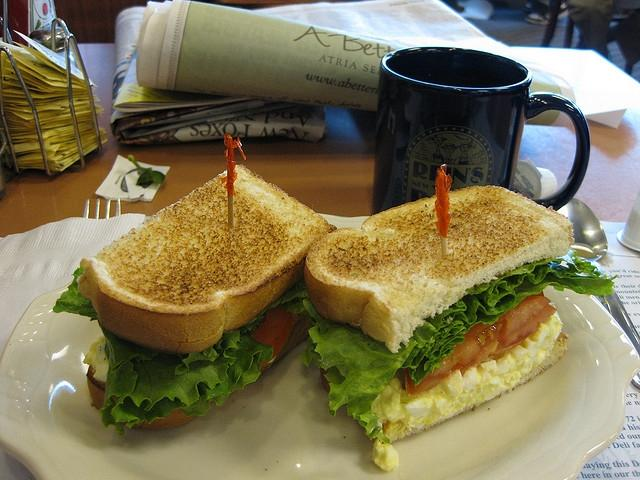lettuce: (296, 297, 467, 444), (426, 270, 618, 360), (441, 262, 579, 328), (128, 338, 238, 410), (198, 333, 274, 400), (52, 267, 98, 322), (256, 279, 309, 316), (423, 334, 465, 370), (410, 336, 436, 369), (136, 170, 166, 188)
tomato: (406, 304, 556, 397), (245, 305, 298, 369), (497, 295, 551, 342)
